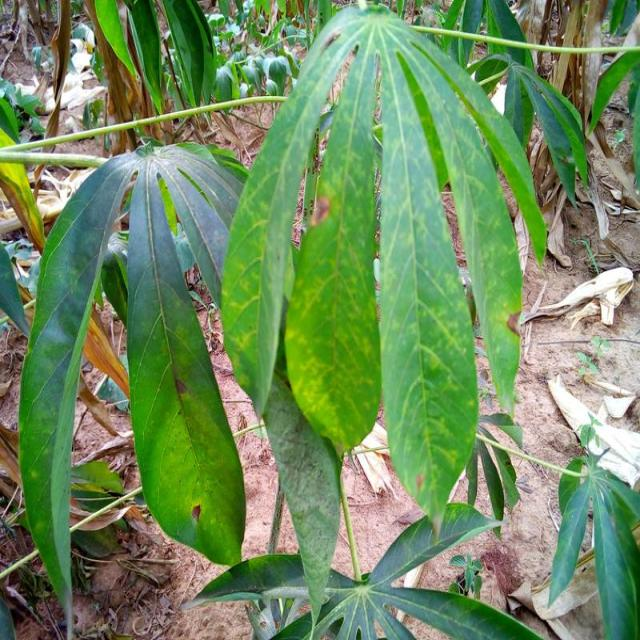cassava leaf: (219, 2, 546, 536), (17, 137, 250, 632), (124, 146, 247, 567)
